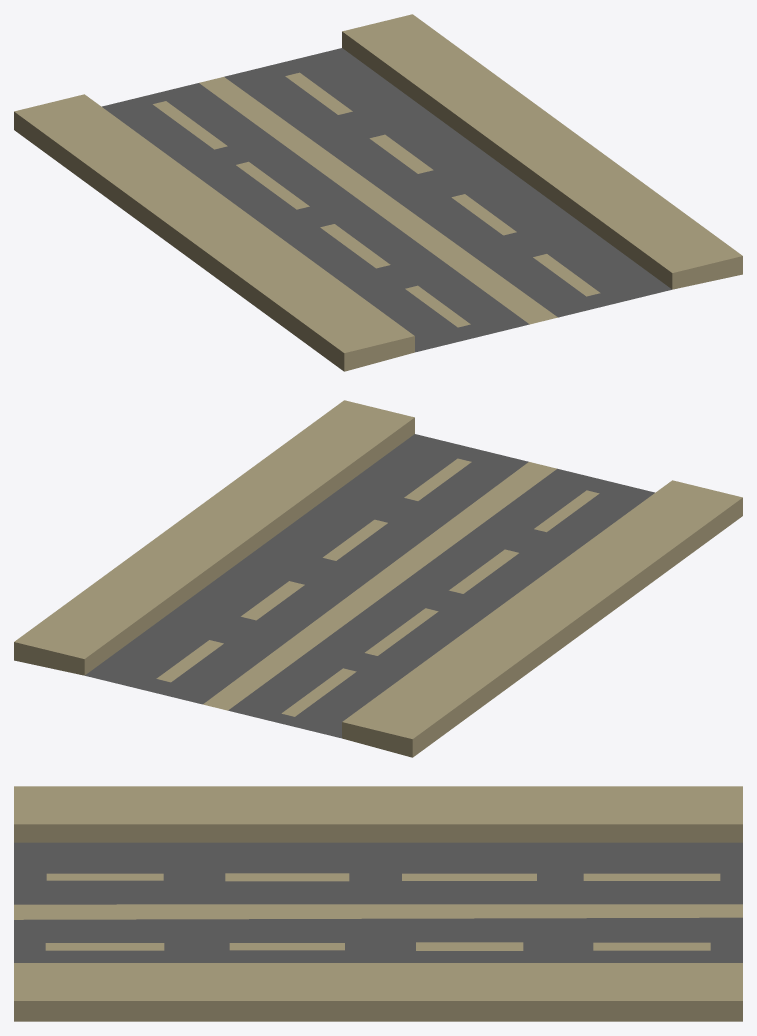
Rendered from yol.fbx.
3 views of the same model, one above another, from view 1: azimuth 30°, elevation 25°; view 2: azimuth 150°, elevation 25°; view 3: azimuth 270°, elevation 25° (orthographic). The views are drawn at different scales.
Visible parts, largest first — view 1: Uçak.002; view 2: Uçak.002; view 3: Uçak.002.
Boxes of the visible parts, x1,y1,x2,y2 form: Uçak.002: (14,14,742,371); Uçak.002: (14,400,742,757); Uçak.002: (14,786,742,1021).
Bounding box in the file's own units: 1665 × 74.02 × 2389.
